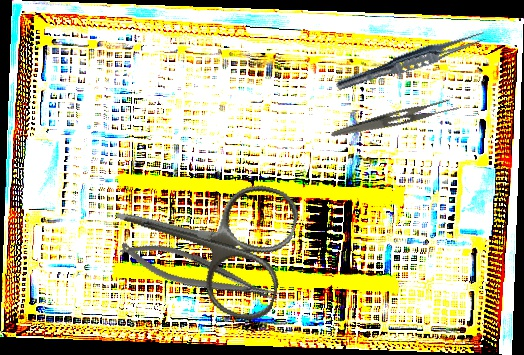Dressing Forceps: (330, 91, 461, 151)
Iris Scissors: (98, 148, 304, 327)
Needle Holder: (116, 229, 282, 318)
Tissue Forceps: (333, 24, 491, 98)
